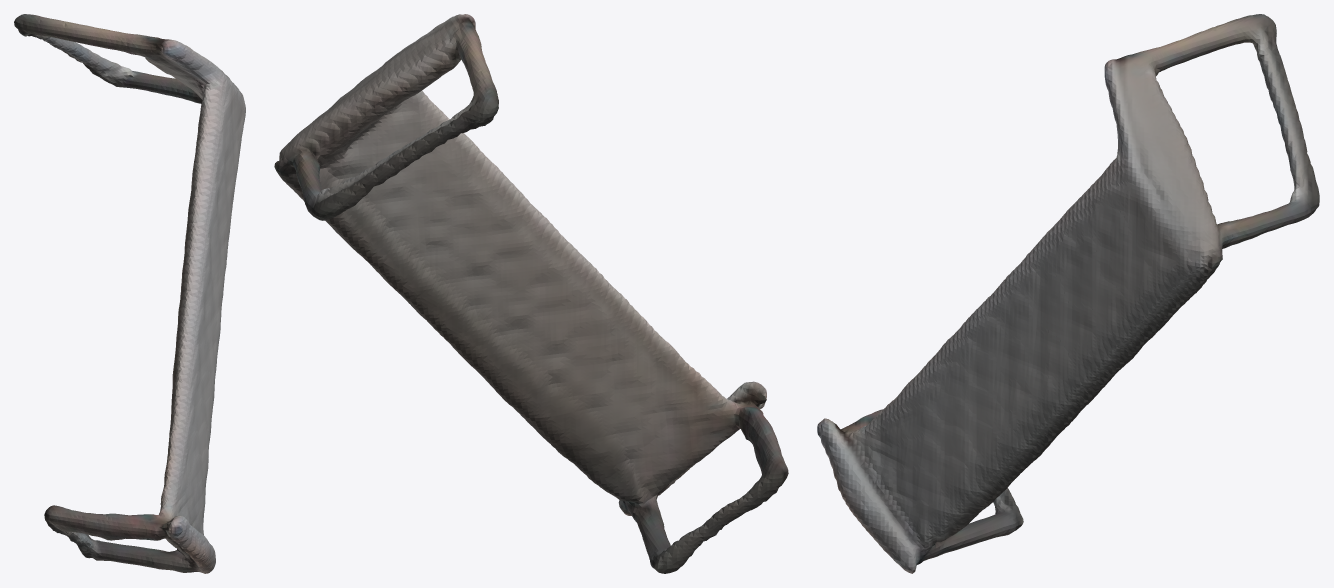
The picture shows the model from 3 angles, left to right: view 1: azimuth 30°, elevation 25°; view 2: azimuth 150°, elevation 25°; view 3: azimuth 270°, elevation 25°; orthographic projection. The views are drawn at different scales.
Size of the model in its own units: 0.7082 by 1.02 by 0.8576.
